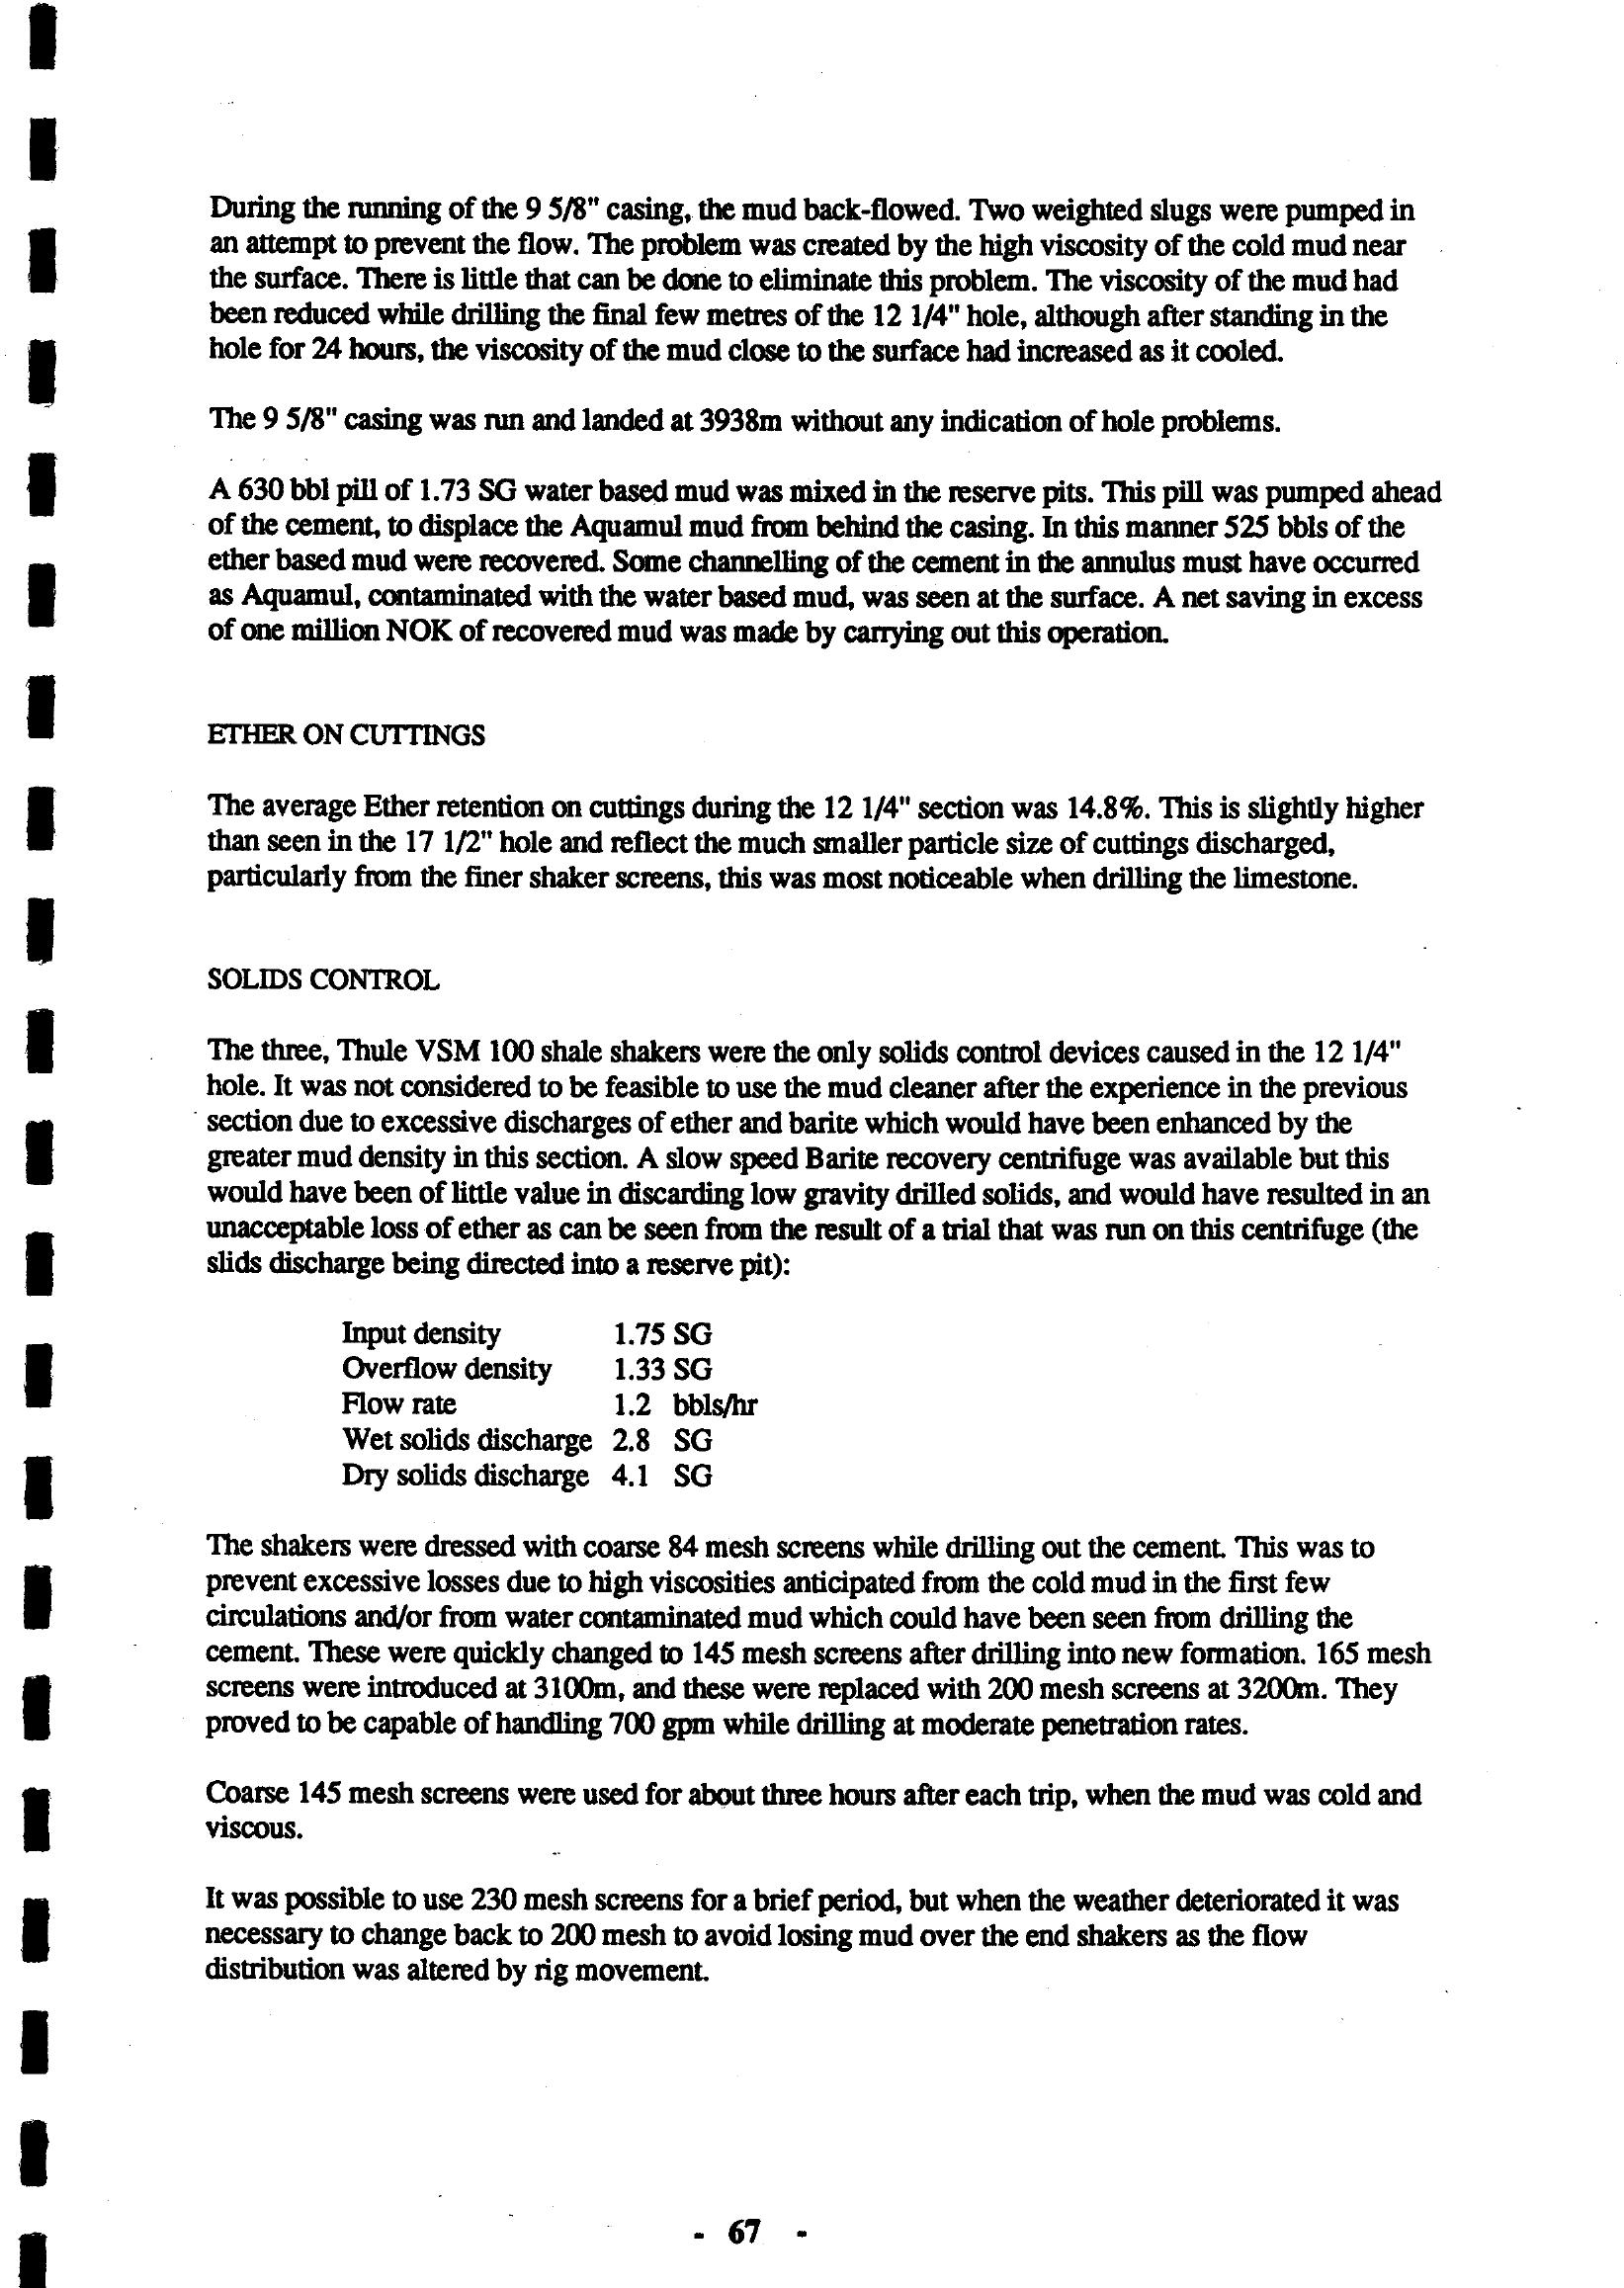text: (178, 165, 1483, 2038)
